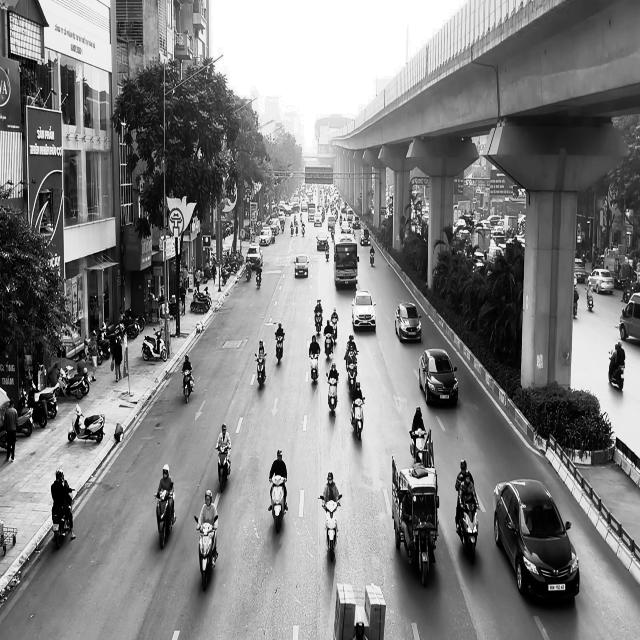car: (492, 478, 580, 602), (418, 348, 458, 406), (394, 302, 422, 342), (351, 290, 376, 330), (294, 253, 308, 277)
motorbike: (194, 514, 218, 591), (455, 490, 479, 564), (318, 493, 342, 562), (67, 404, 105, 443), (52, 488, 75, 548), (154, 488, 176, 548), (268, 476, 287, 534), (142, 328, 168, 362), (216, 443, 231, 492), (350, 397, 366, 440), (608, 350, 625, 390), (326, 375, 339, 414), (181, 369, 194, 404), (254, 352, 266, 389), (308, 346, 320, 382), (275, 332, 284, 364), (324, 333, 334, 359), (314, 308, 322, 334), (586, 286, 593, 310)
